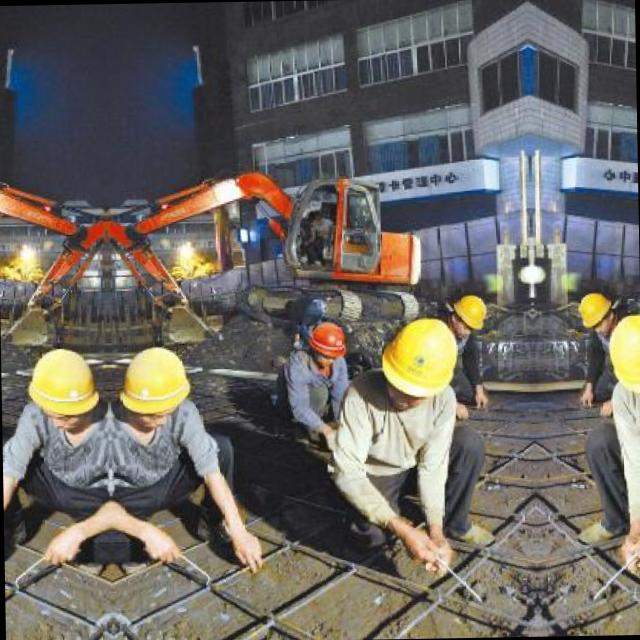helmet: (376, 317, 459, 409), (114, 346, 192, 434), (22, 347, 100, 435), (603, 312, 640, 406), (575, 290, 616, 340), (446, 293, 486, 342), (303, 319, 344, 364)
